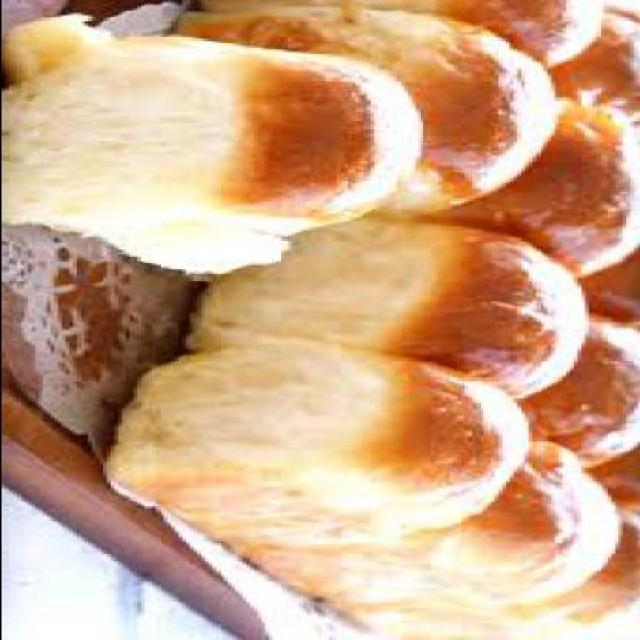BIODEGRADABLE: (227, 374, 638, 640), (4, 21, 425, 274), (139, 8, 561, 220), (106, 353, 531, 539), (188, 224, 592, 399), (403, 97, 639, 281), (550, 174, 639, 486), (264, 2, 605, 67), (552, 1, 638, 124)
